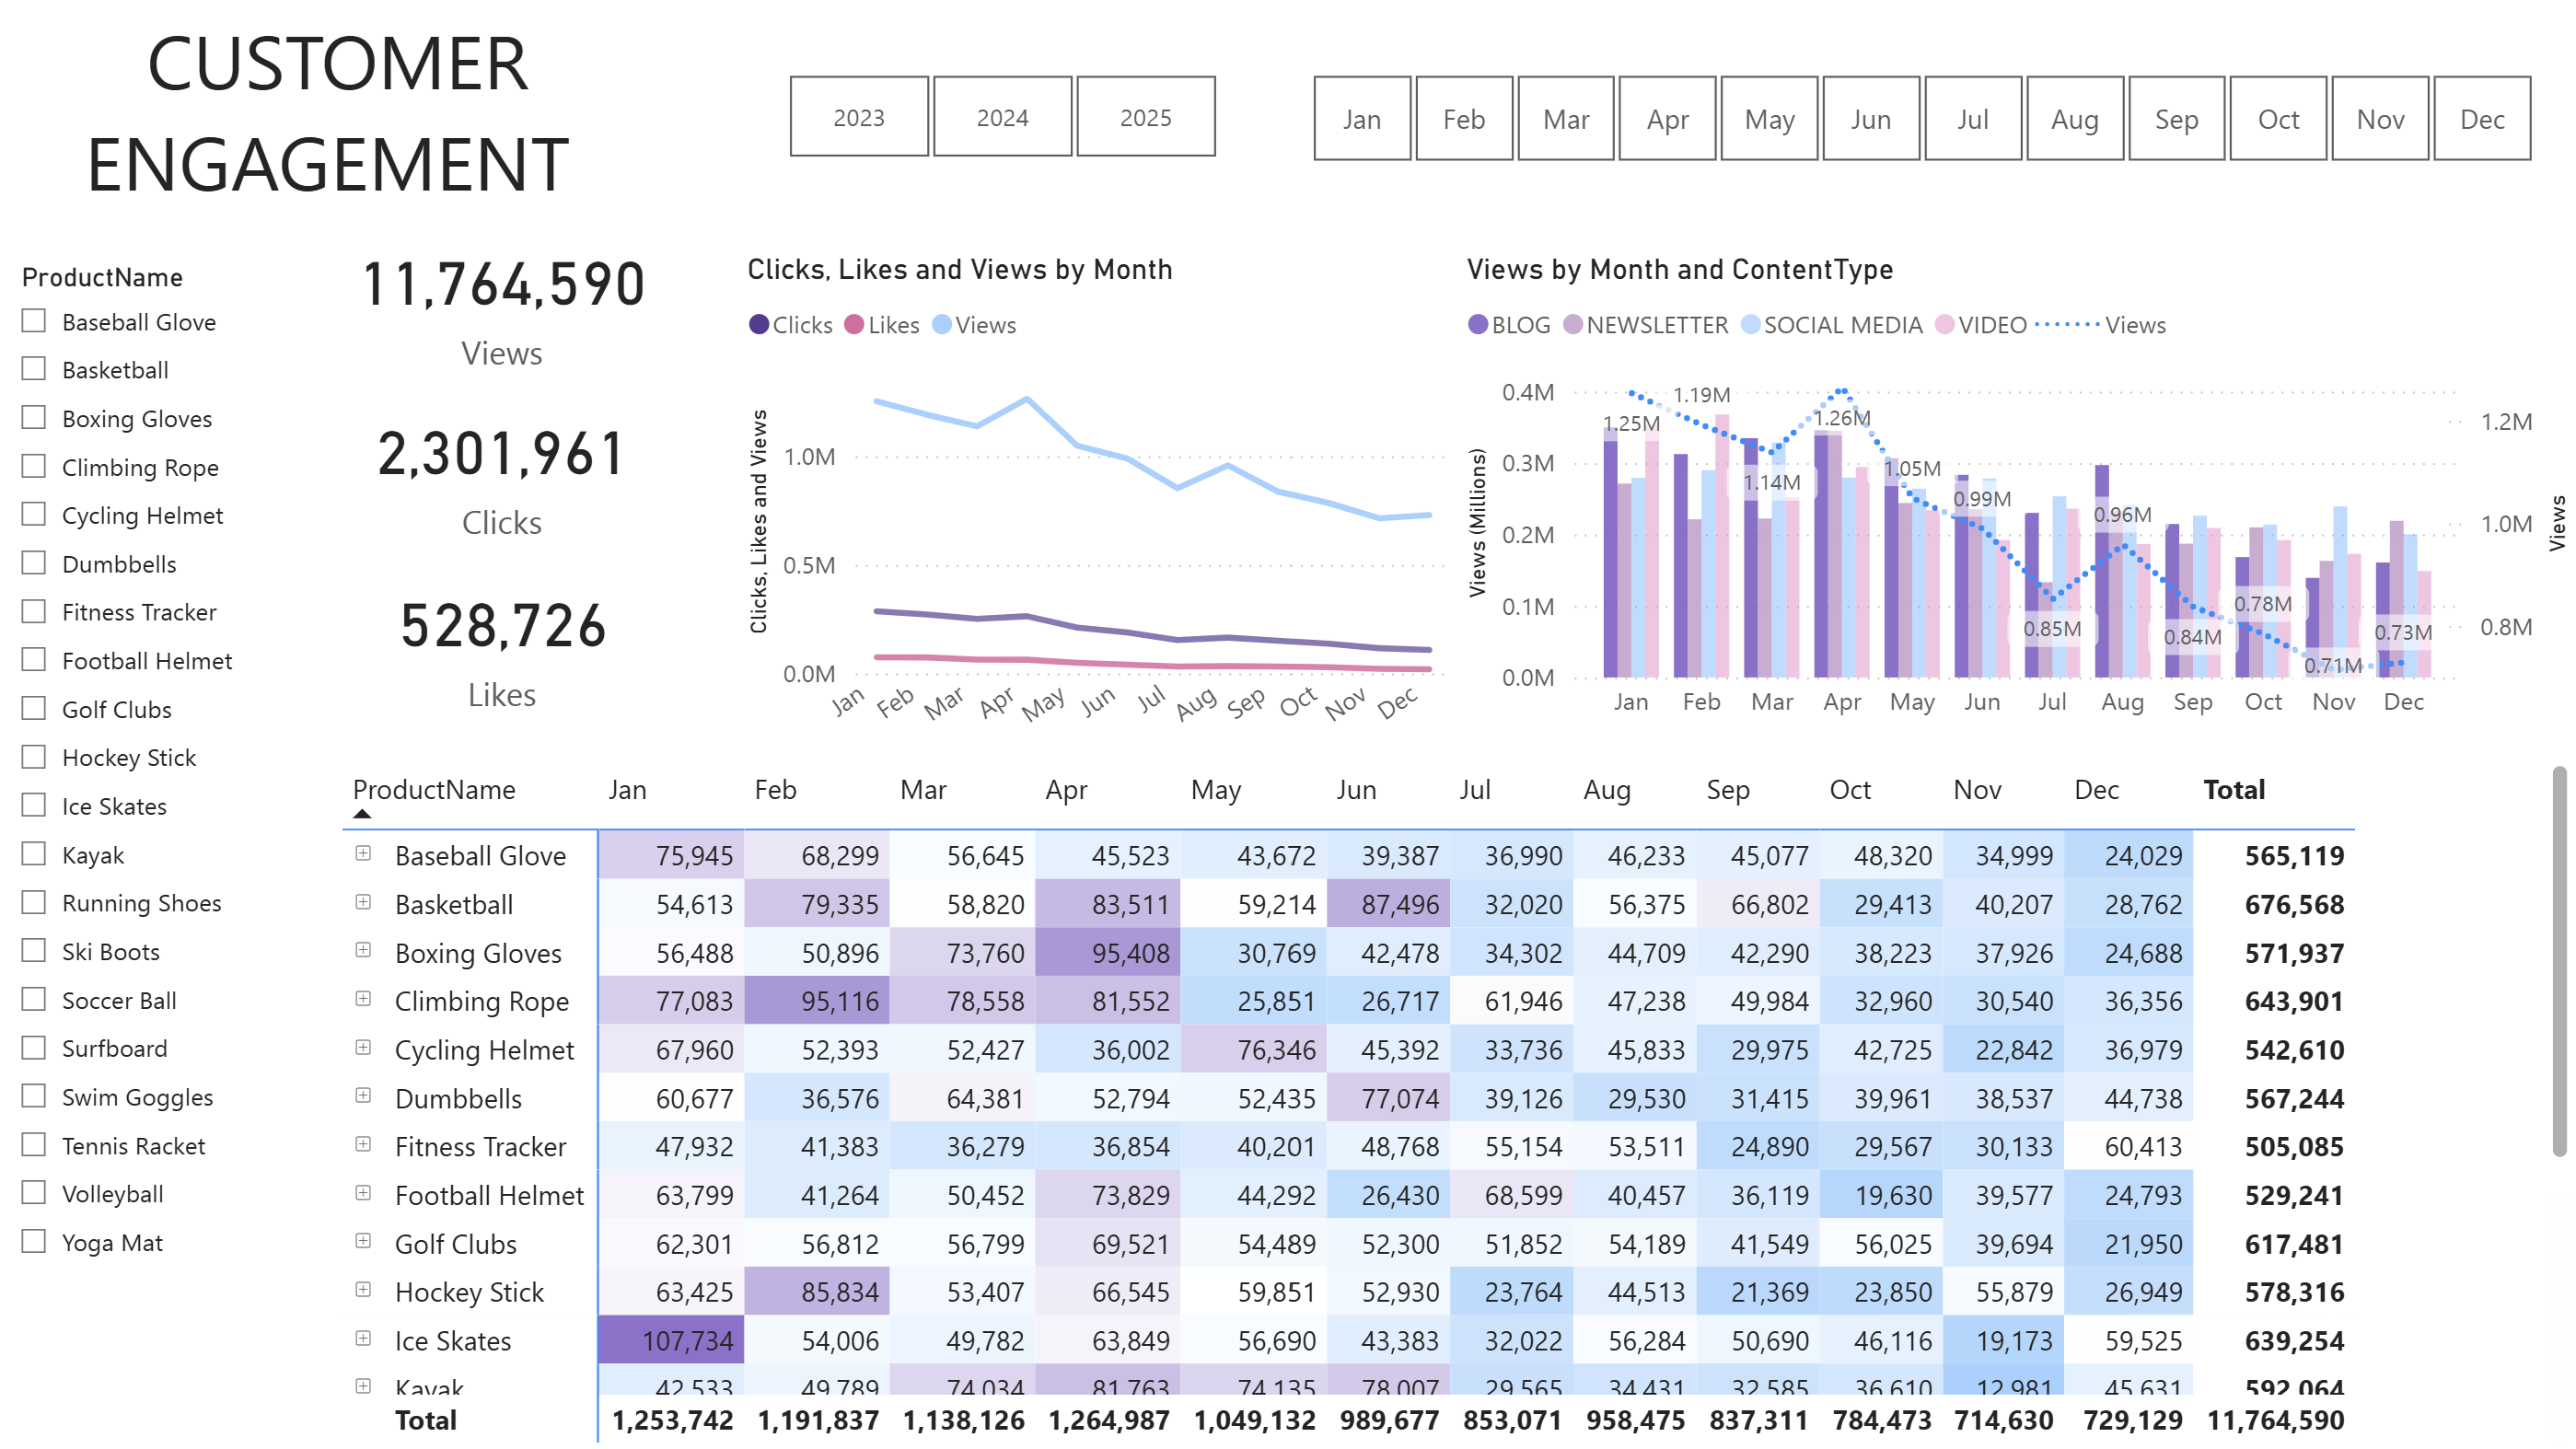

The page's visual inventory and layout, read from the dashboard file:
{"tool":"powerbi","page":{"name":"customer engagement","canvas":[1280,720],"ordinal":2},"visuals":[{"type":"slicer","fields":{"Values":["Calendar.Year"]},"box":[367,32,261,54],"z":0},{"type":"textbox","box":[0,0,339,157],"z":1000},{"type":"slicer","fields":{"Values":["dim_products.ProductName"]},"box":[0,126,163,559],"z":2000},{"type":"card","fields":{"Values":["_calculations (2).Likes"]},"box":[135,279,232,81],"z":3000},{"type":"card","fields":{"Values":["_calculations (2).Clicks"]},"box":[135,190,232,89],"z":4000},{"type":"card","fields":{"Values":["_calculations (2).Views"]},"box":[135,110,232,80],"z":5000},{"type":"slicer","fields":{"Values":["Calendar.MonthNameShort"]},"box":[626,32,653,56],"z":6000},{"type":"lineChart","title":"Clicks, Likes and Views by Month","fields":{"Category":["Calendar.MonthNameShort"],"Y":["_calculations (2).Clicks","_calculations (2).Likes","_calculations (2).Views"]},"box":[367,126,357,256],"z":7000},{"type":"lineClusteredColumnComboChart","title":"Views by Month and ContentType","fields":{"Category":["Calendar.MonthNameShort"],"Series":["fact_engagement_data.ContentType"],"Y":["_calculations (2).Views"],"Y2":["_calculations (2).Views"]},"box":[723,126,556,241],"z":8000},{"type":"pivotTable","fields":{"Rows":["dim_products.ProductName","fact_engagement_data.ContentType"],"Columns":["Calendar.MonthNameShort"],"Values":["_calculations (2).Views"]},"box":[167,375,1112,346],"z":9000}]}

Visuals, with their boxes in screenshot pixels (x1, y1, x2, y2), scaled from the page's 1280x720 canvas onto the 2576x1449 screenshot:
slicer - Calendar.Year: bbox=(738, 64, 1264, 173)
textbox: bbox=(0, 0, 682, 316)
slicer - dim_products.ProductName: bbox=(0, 253, 328, 1378)
card - _calculations (2).Likes: bbox=(272, 562, 738, 724)
card - _calculations (2).Clicks: bbox=(272, 382, 738, 562)
card - _calculations (2).Views: bbox=(272, 221, 738, 382)
slicer - Calendar.MonthNameShort: bbox=(1259, 64, 2574, 177)
"Clicks, Likes and Views by Month" lineChart: bbox=(738, 253, 1457, 769)
"Views by Month and ContentType" lineClusteredColumnComboChart: bbox=(1455, 253, 2574, 738)
pivotTable - dim_products.ProductName x fact_engagement_data.ContentType: bbox=(336, 755, 2574, 1448)
